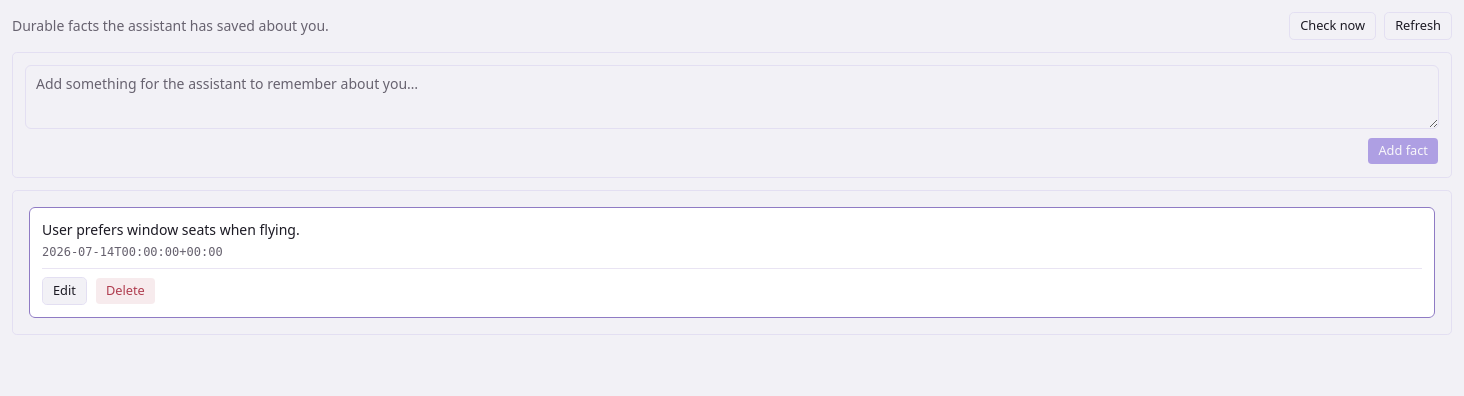
Test: MemoryPanel › edits an existing fact in place
Expected: the text "User prefers window seats when flying." is shown, [42,220,300,239]
Click the button "Edit": {"x": 64, "y": 291} [42,277,87,305]
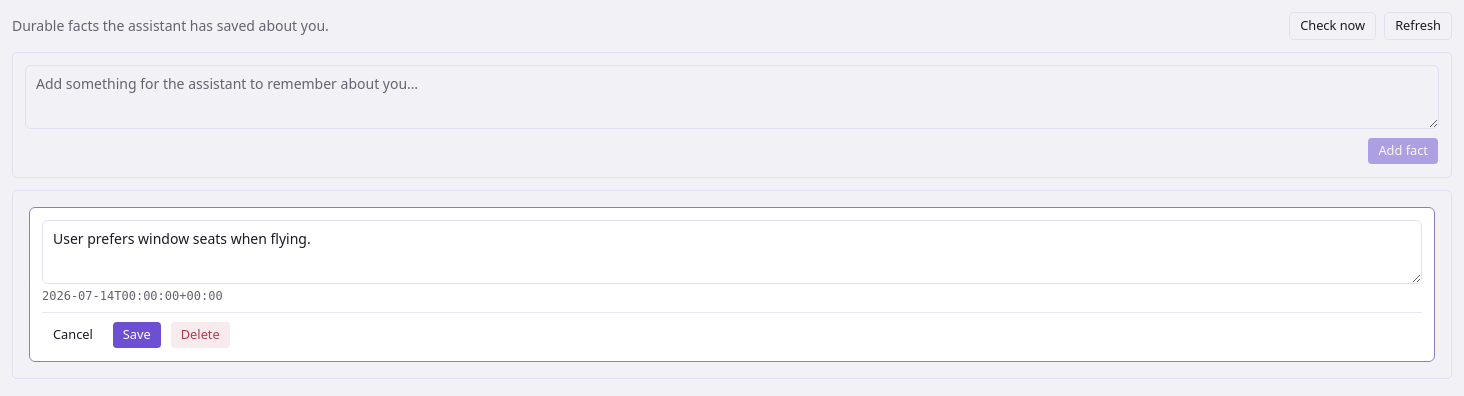
Replace the text in the text box with test id "edit-fact-input" with "User prefers aisle seats when flying.": {"x": 732, "y": 252} [42,220,1422,284]
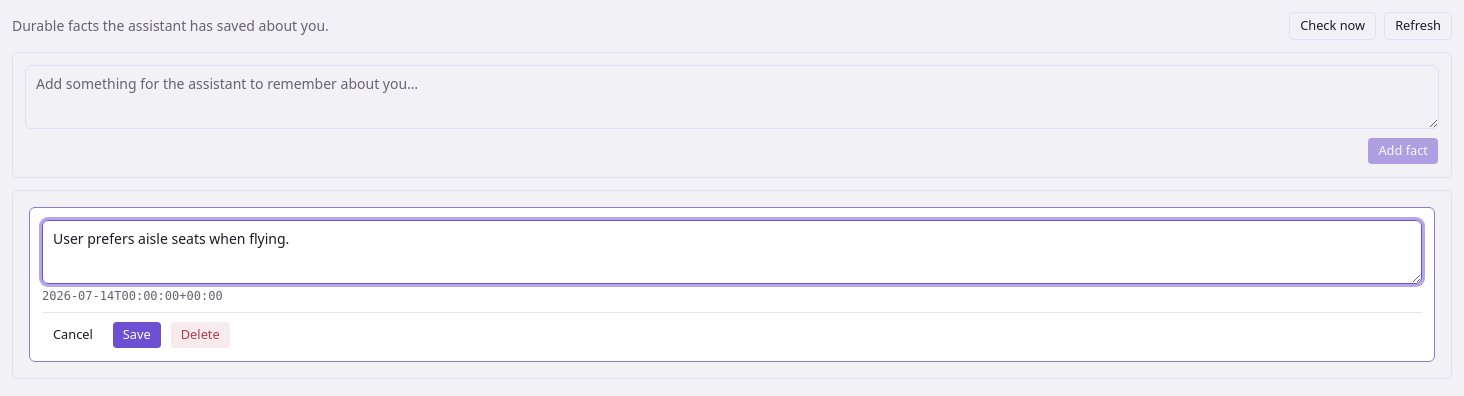
Click the button "Save": {"x": 137, "y": 335} [112,321,162,349]
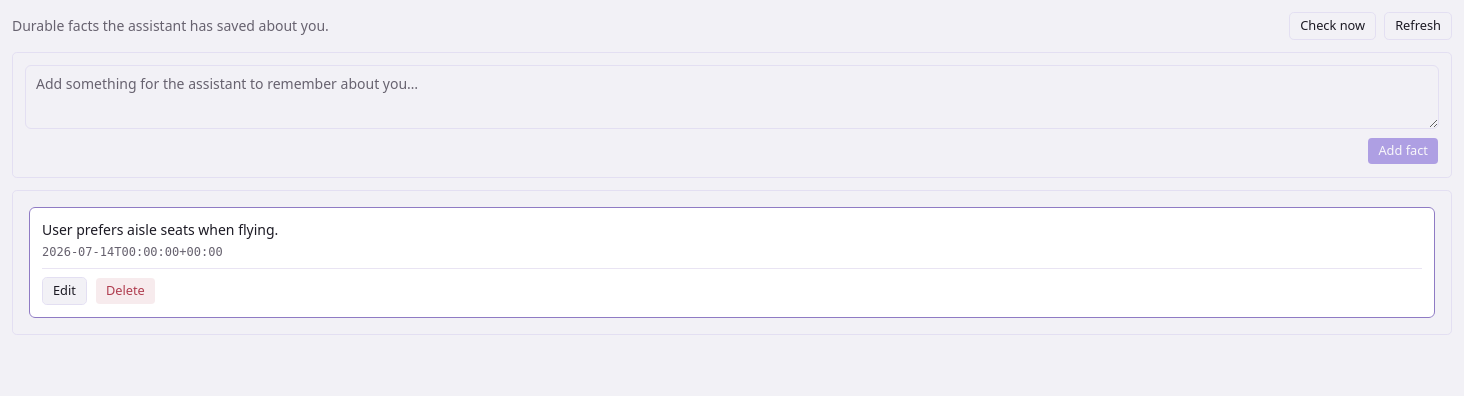
Now the text "User prefers aisle seats when flying." is shown, box [42,220,278,239]
